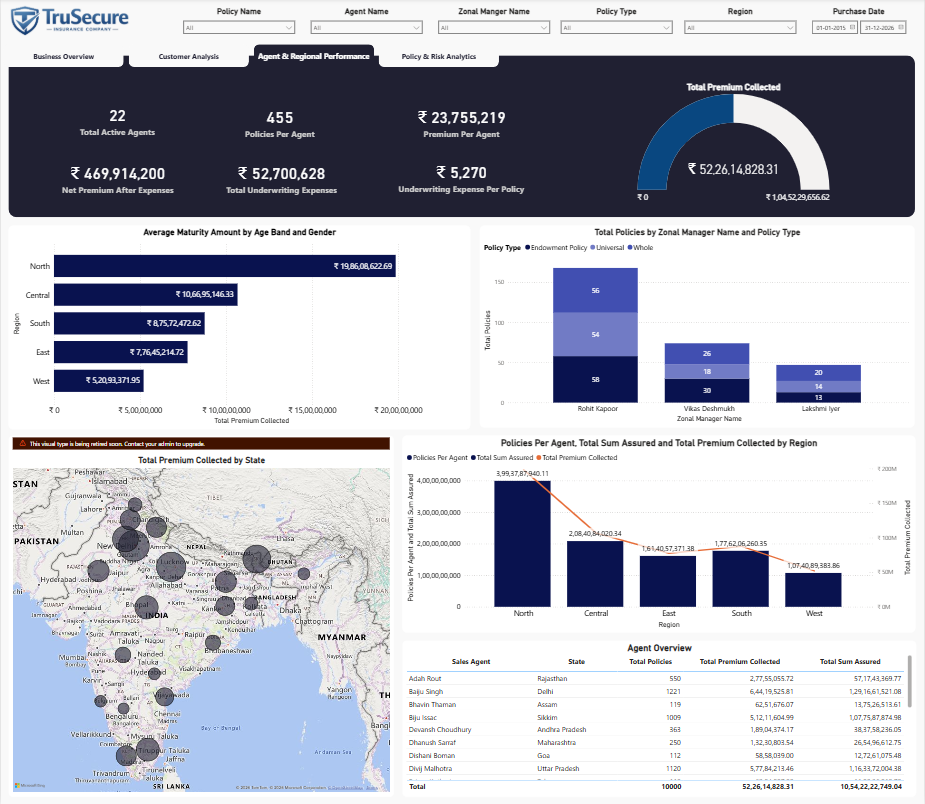

The page's visual inventory and layout, read from the dashboard file:
{"tool":"powerbi","page":{"name":"Agent & Regional Performance","canvas":[1940,1700],"ordinal":2},"visuals":[{"type":"shape","box":[15.6,120.3,1906,340],"z":0},{"type":"columnChart","fields":{"Category":["DM Zonal_Manager.Zonal Manager Name"],"Y":["Measure.Total Policies"],"Series":["DM Policy_Type.Policy Type"]},"box":[1007.8,477.5,914.3,424.7],"z":1000},{"type":"map","fields":{"Category":["DM Insurance_Agent_Table.State"],"Size":["Measure.Total Premium Collected"]},"box":[16.3,920.4,810.7,759.9],"z":2000},{"type":"advanceCardE03760C5AB684758B56AA29F9E6C257B","fields":{"mainMeasure":["Measure 2.Net Premium After Expenses"]},"box":[62,319.7,365.8,119.3],"z":3000},{"type":"advanceCardE03760C5AB684758B56AA29F9E6C257B","fields":{"mainMeasure":["Measure 2.Underwriting Expense Per Policy"]},"box":[786.3,319,365.7,119.9],"z":4000},{"type":"advanceCardE03760C5AB684758B56AA29F9E6C257B","fields":{"mainMeasure":["Measure 2.Policies Per Agent"]},"box":[405.6,202,364.2,119.3],"z":5000},{"type":"advanceCardE03760C5AB684758B56AA29F9E6C257B","fields":{"mainMeasure":["Measure 2.Total Active Agents"]},"box":[63.6,200.4,364.2,119.3],"z":6000},{"type":"slicer","title":"Zonal Manger Name","fields":{"Values":["DM Zonal_Manager.Zonal Manager Name","FCT Insurance_Policy_Table.Policy Status"]},"box":[908.9,18,255,80.1],"z":7000},{"type":"slicer","title":"Region","fields":{"Values":["DM Regional_Manager.Region"]},"box":[1427,18,255,80.1],"z":8000},{"type":"slicer","title":"Purchase Date","fields":{"Values":["Calendar.Date"]},"box":[1693.1,17.8,222,70],"z":9000},{"type":"slicer","title":"Policy Type","fields":{"Values":["FCT Insurance_Policy_Table.Tenure Band"]},"box":[1167.1,18,255,80.1],"z":10000},{"type":"pageNavigator","box":[5.7,96.6,1045.4,48.3],"z":11000},{"type":"image","box":[0,0,288,88],"z":12000},{"type":"tableEx","title":"Agent Overview","fields":{"Values":["DM Insurance_Agent_Table.Sales Agent","DM Insurance_Agent_Table.State","Measure.Total Policies","Measure.Total Premium Collected","Measure.Total Sum Assured"]},"box":[843.2,1351.2,1080.9,329.2],"z":13000},{"type":"clusteredBarChart","title":"Average Maturity Amount by Age Band and Gender","fields":{"Category":["DM Regional_Manager.Region"],"Y":["Measure.Total Premium Collected"]},"box":[16.3,477.5,971.2,428.7],"z":14000},{"type":"slicer","title":"Policy Name","fields":{"Values":["DM Policy_Protection_Plan.Policy Name"]},"box":[372.7,18,255,80.1],"z":15000},{"type":"slicer","title":"Agent Name","fields":{"Values":["DM Insurance_Agent_Table.Sales Agent"]},"box":[642.4,18,255,80.1],"z":16000},{"type":"advanceCardE03760C5AB684758B56AA29F9E6C257B","fields":{"mainMeasure":["Measure 2.Total Underwriting Expenses"]},"box":[406.4,321,365.7,119.9],"z":17000},{"type":"advanceCardE03760C5AB684758B56AA29F9E6C257B","fields":{"mainMeasure":["Measure 2.Premium Per Agent"]},"box":[786.3,201.2,365.7,119.9],"z":18000},{"type":"gauge","fields":{"Y":["Measure.Total Premium Collected"]},"box":[1322.7,176.8,436.8,264.1],"z":19000},{"type":"lineStackedColumnComboChart","fields":{"Y":["Measure 2.Policies Per Agent","Measure.Total Sum Assured"],"Category":["DM Regional_Manager.Region"],"Y2":["Measure.Total Premium Collected"]},"box":[843.2,920.4,1078.9,414.5],"z":20000}]}

Visuals, with their boxes in screenshot pixels (x1, y1, x2, y2), scaled from the page's 1940x1700 canvas onto the 925x804 screenshot:
shape: 7/57/916/218
columnChart - DM Zonal_Manager.Zonal Manager Name x Measure.Total Policies: 481/226/916/427
map - DM Insurance_Agent_Table.State x Measure.Total Premium Collected: 8/435/394/795
advanceCardE03760C5AB684758B56AA29F9E6C257B - Measure 2.Net Premium After Expenses: 30/151/204/208
advanceCardE03760C5AB684758B56AA29F9E6C257B - Measure 2.Underwriting Expense Per Policy: 375/151/549/208
advanceCardE03760C5AB684758B56AA29F9E6C257B - Measure 2.Policies Per Agent: 193/96/367/152
advanceCardE03760C5AB684758B56AA29F9E6C257B - Measure 2.Total Active Agents: 30/95/204/151
"Zonal Manger Name" slicer: 433/9/555/46
"Region" slicer: 680/9/802/46
"Purchase Date" slicer: 807/8/913/42
"Policy Type" slicer: 556/9/678/46
pageNavigator: 3/46/501/69
image: 0/0/137/42
"Agent Overview" tableEx: 402/639/917/795
"Average Maturity Amount by Age Band and Gender" clusteredBarChart: 8/226/471/429
"Policy Name" slicer: 178/9/299/46
"Agent Name" slicer: 306/9/428/46
advanceCardE03760C5AB684758B56AA29F9E6C257B - Measure 2.Total Underwriting Expenses: 194/152/368/209
advanceCardE03760C5AB684758B56AA29F9E6C257B - Measure 2.Premium Per Agent: 375/95/549/152
gauge - Measure.Total Premium Collected: 631/84/839/209
lineStackedColumnComboChart - Measure 2.Policies Per Agent x Measure.Total Sum Assured: 402/435/916/631
